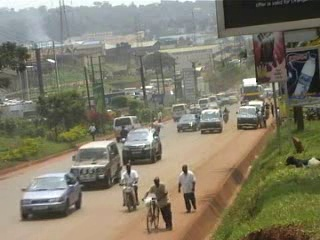Car: (18, 170, 84, 221), (66, 138, 122, 189), (122, 126, 163, 165), (173, 110, 200, 134), (188, 101, 203, 114), (218, 98, 231, 107)
Motorcycle: (117, 163, 142, 212), (151, 114, 165, 136), (117, 121, 131, 139), (221, 106, 232, 125)
